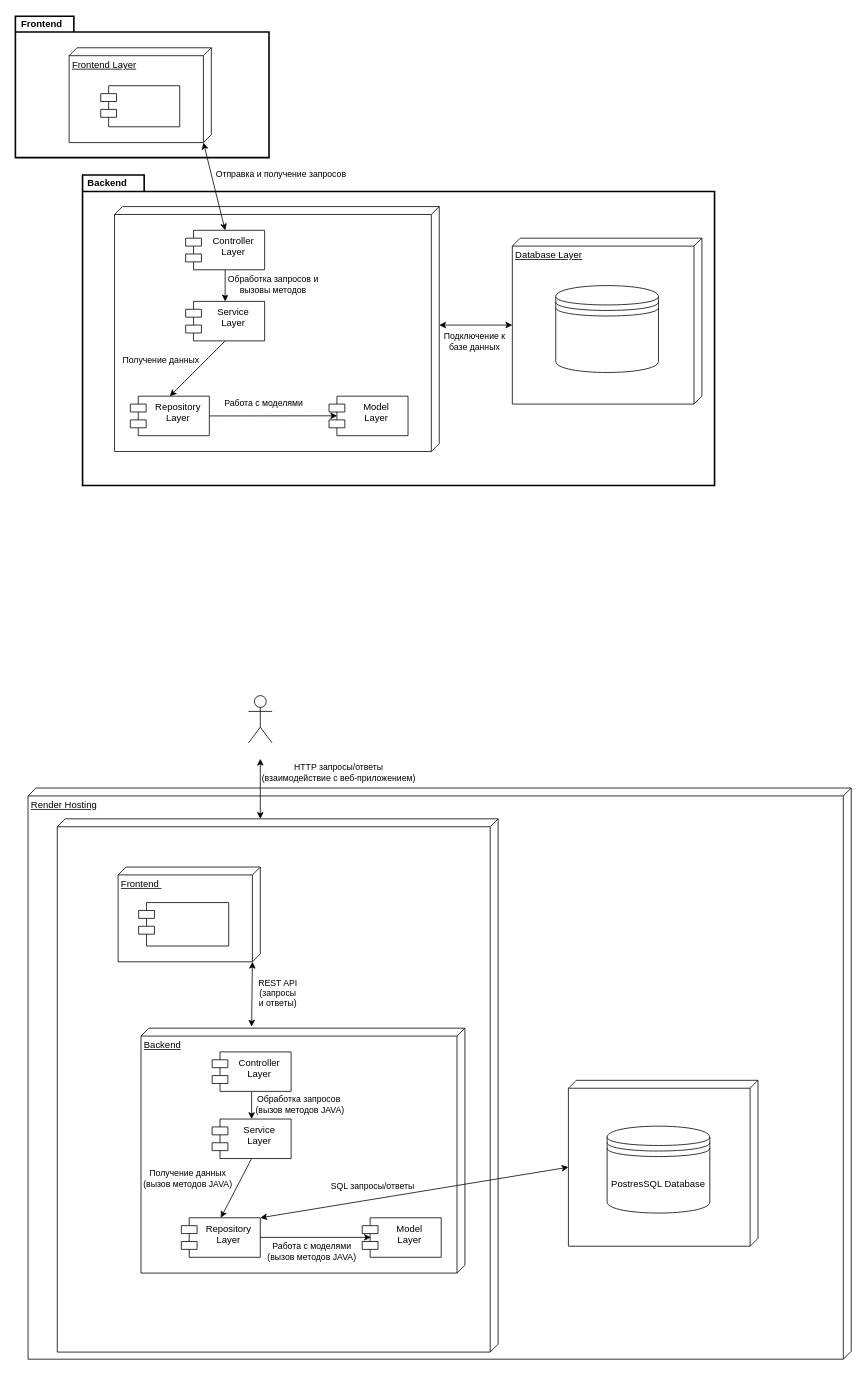
The diagram is 865 pixels wide and 1373 high, and some of its shapes have lost their labels. Each missing label, with the box of its shape:
App: (114, 206, 439, 451)
Database: (555, 285, 658, 372)
Database Server: (568, 1080, 758, 1246)
HTML with Thymeleaf: (138, 902, 229, 946)
User interface: (100, 85, 180, 127)
WebServer: (56, 818, 498, 1352)
Пользователь: (248, 695, 272, 743)
